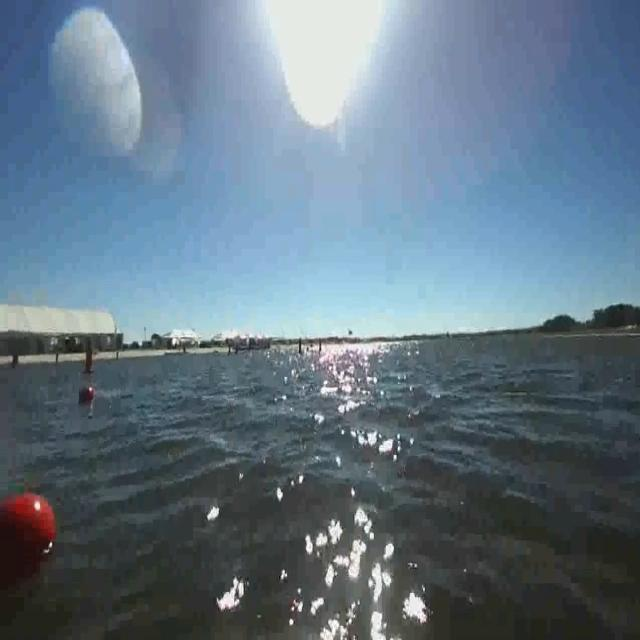red-buoy: (0, 492, 55, 561), (80, 387, 94, 405)
